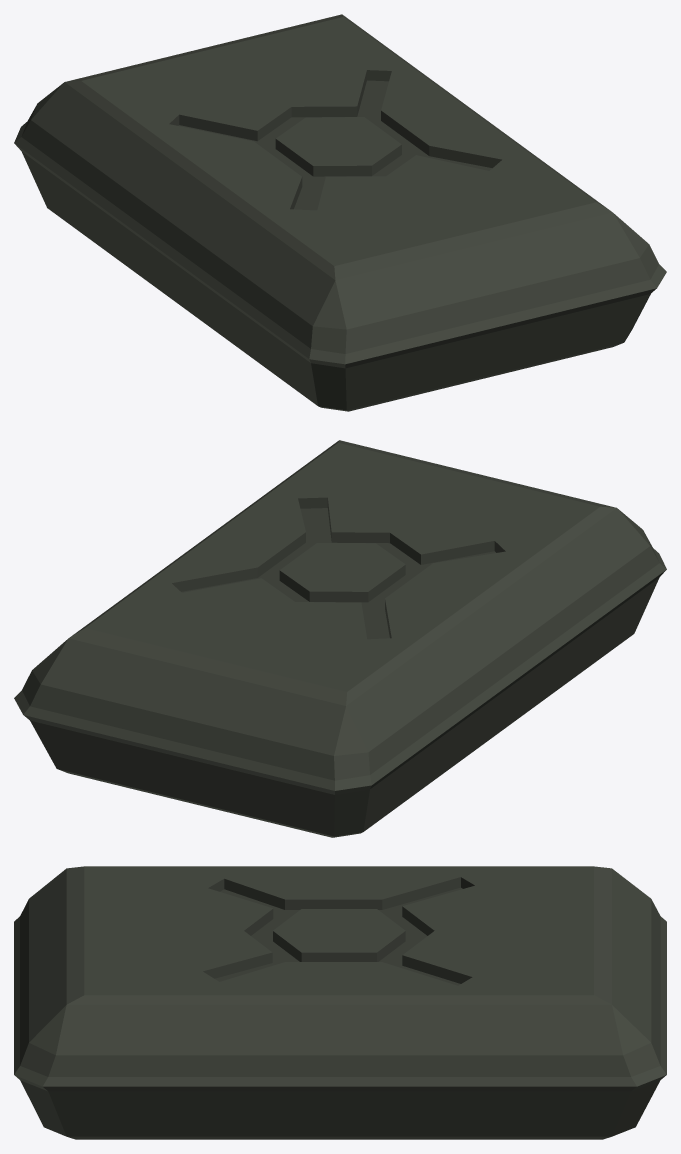
The model's file is SM_Veh_Attach_Container_04.fbx.
3 renders of one model, top to bottom at view 1: azimuth 30°, elevation 25°; view 2: azimuth 150°, elevation 25°; view 3: azimuth 270°, elevation 25°, orthographic.
Visible parts, largest first — view 1: SM_Veh_Attach_Container_04; view 2: SM_Veh_Attach_Container_04; view 3: SM_Veh_Attach_Container_04.
Part boxes in pixels (x1=…): SM_Veh_Attach_Container_04: x1=14, y1=14, x2=666, y2=411; SM_Veh_Attach_Container_04: x1=14, y1=440, x2=666, y2=837; SM_Veh_Attach_Container_04: x1=14, y1=866, x2=666, y2=1139.
Size of the model in its own units: 72.77 by 26.04 by 114.
